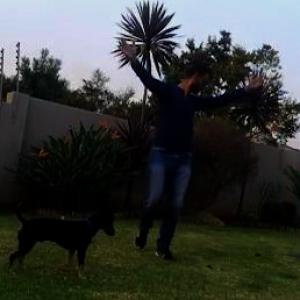takeoff: (105, 33, 278, 250)
